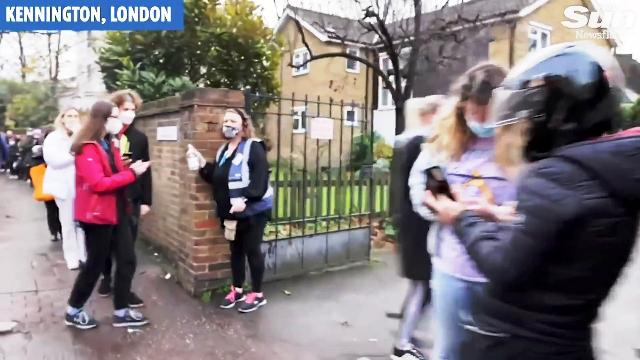berdiri: (185, 105, 278, 314)
